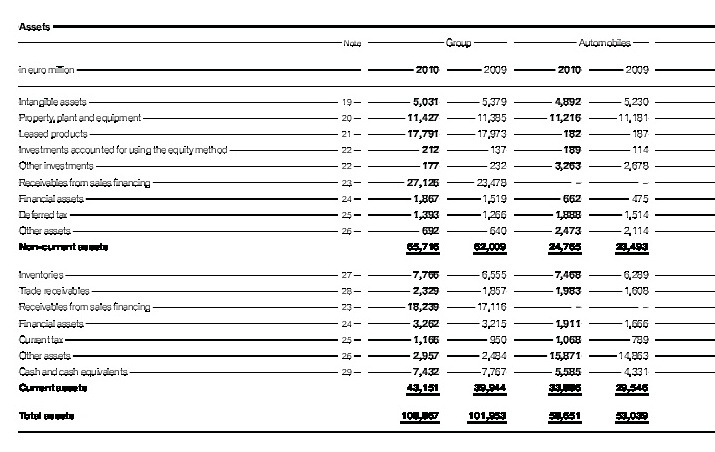table: (0, 0, 715, 452)
